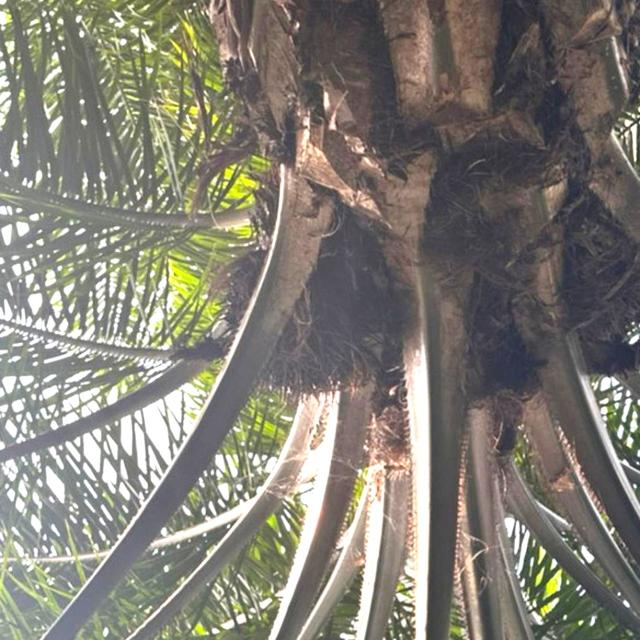almost: (220, 258, 366, 416)
